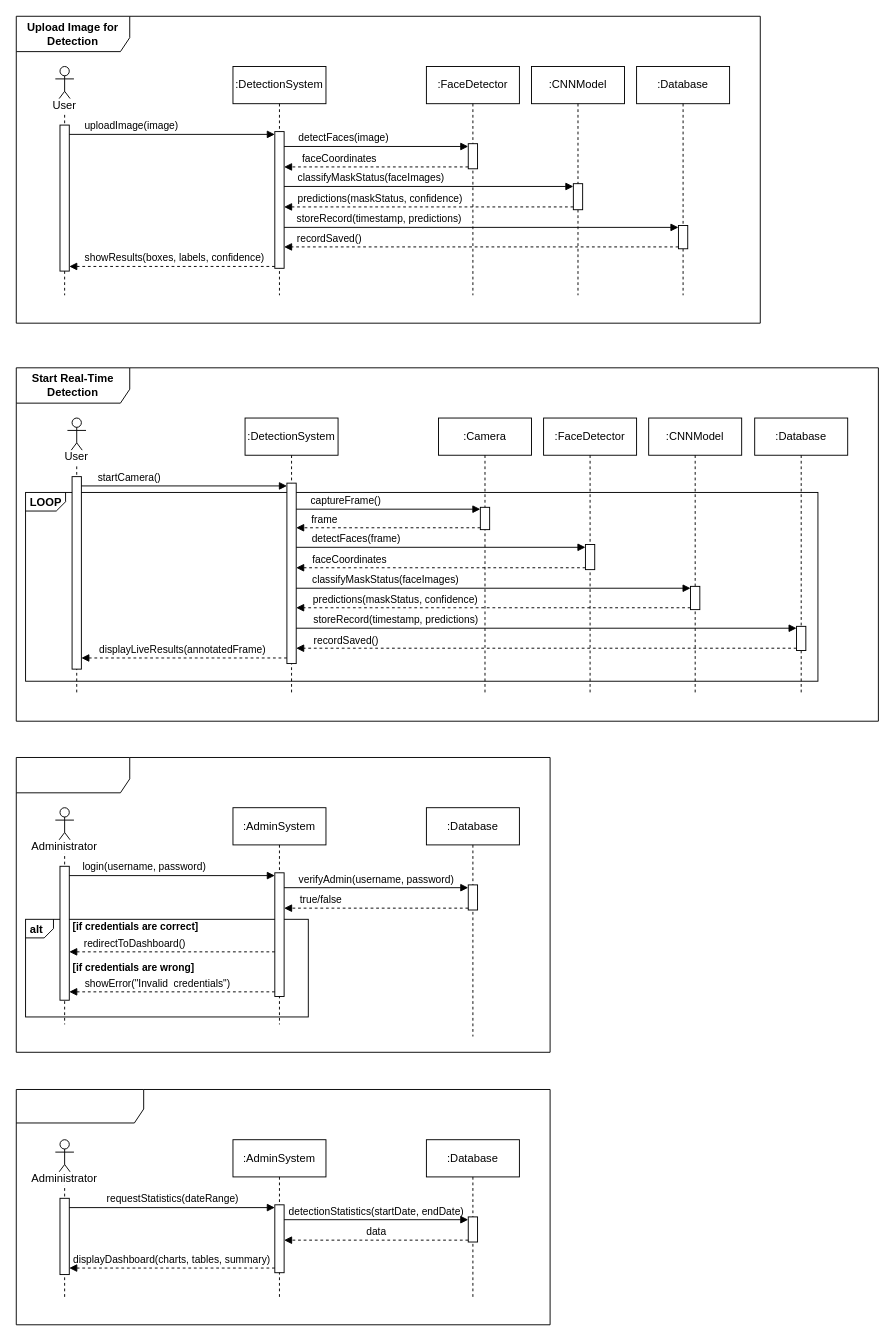
The diagram is 895 pixels wide and 1341 high, and some of its shapes have lost their labels. The shapes that lost their labels are listed below. From the top down, each one's centre as x and y in pixels, then its label:
[282,904]: Login as Administrator
[282,1207]: View and Analyze Detection Statistics
